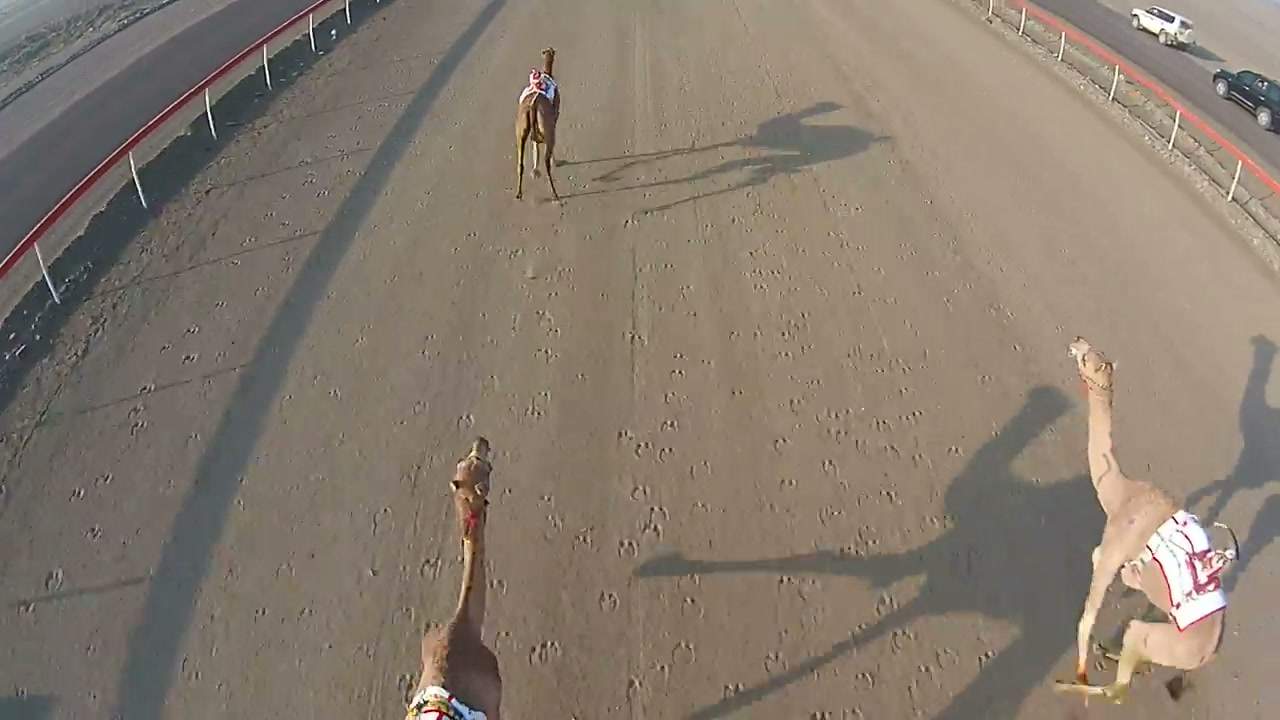animal_foot_print: (517, 98, 973, 719), (2, 126, 360, 629), (320, 184, 579, 671)
